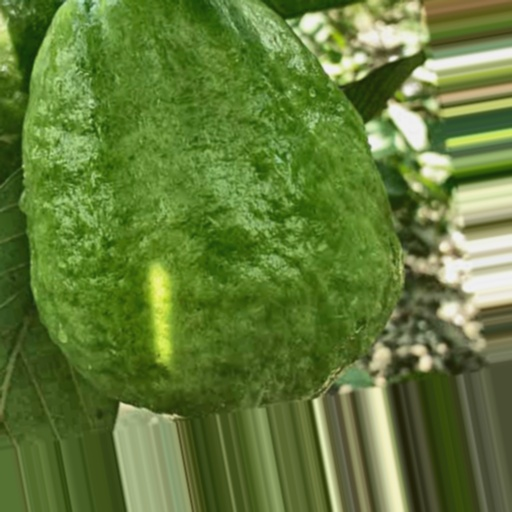guava: (124, 57, 489, 425)
